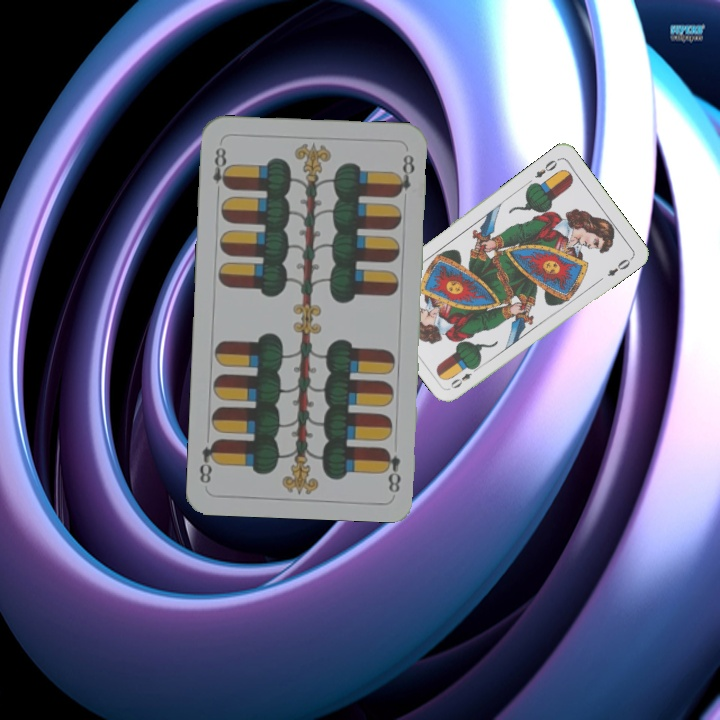E8: (209, 143, 233, 199), (379, 444, 403, 495)
EO: (446, 362, 482, 391), (531, 154, 562, 181)
